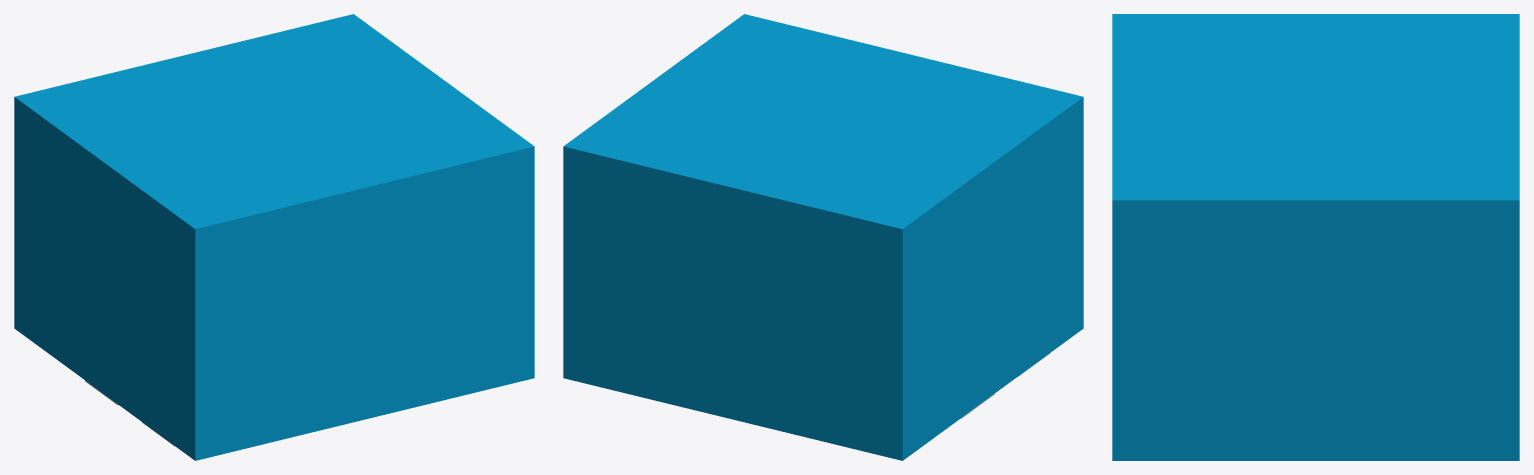
File: tinker.obj
3 renders of one model, left to right at view 1: azimuth 30°, elevation 25°; view 2: azimuth 150°, elevation 25°; view 3: azimuth 270°, elevation 25°, orthographic. The views are drawn at different scales.
Visible parts, largest first — view 1: group_0_40919; view 2: group_0_40919; view 3: group_0_40919.
Boxes of the visible parts, x1,y1,x2,y2 form: group_0_40919: (14,14,534,460); group_0_40919: (563,14,1083,460); group_0_40919: (1112,14,1519,460).
Bounding box in the file's own units: 118 × 85 × 109.
